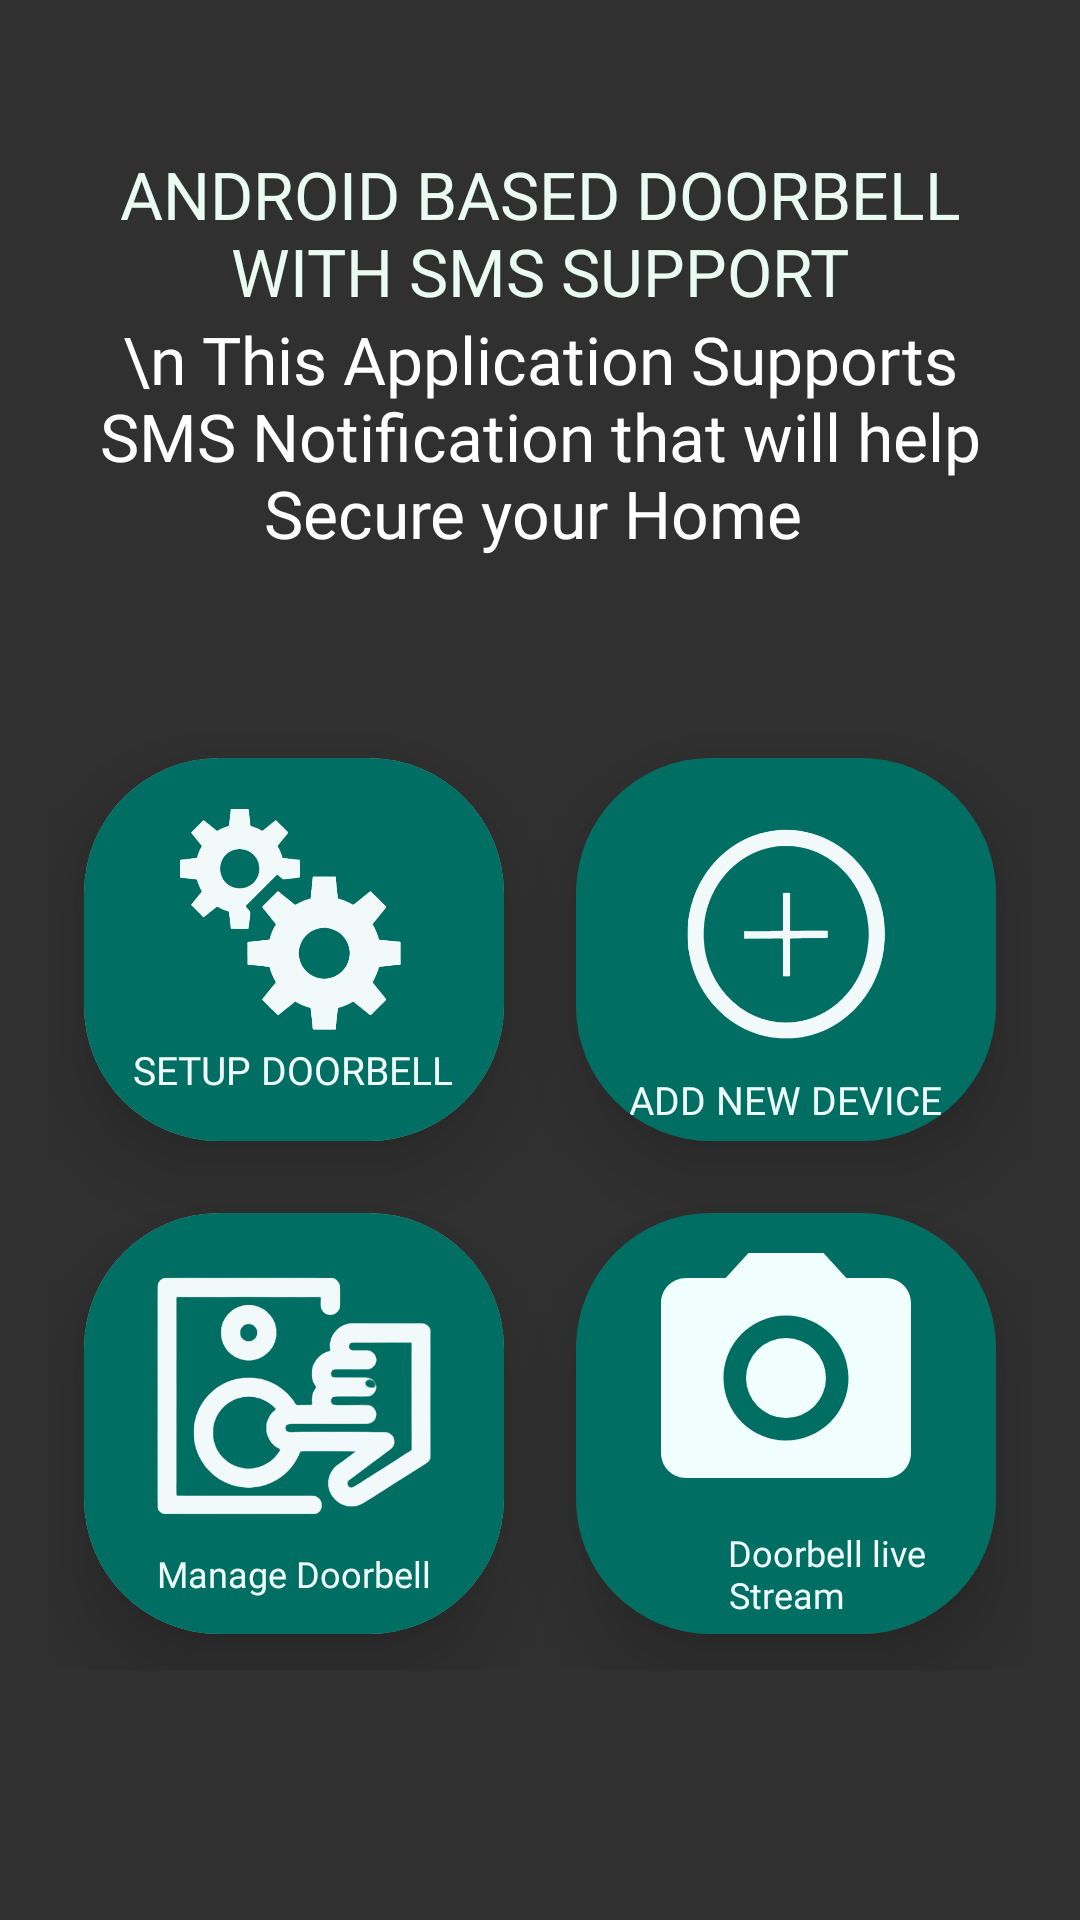

Locate icon controls on the screen. Image size 1080*1920, boxes as bbox=(x1, y1, x2, y2).
camera: bbox=(661, 1253, 911, 1478)
